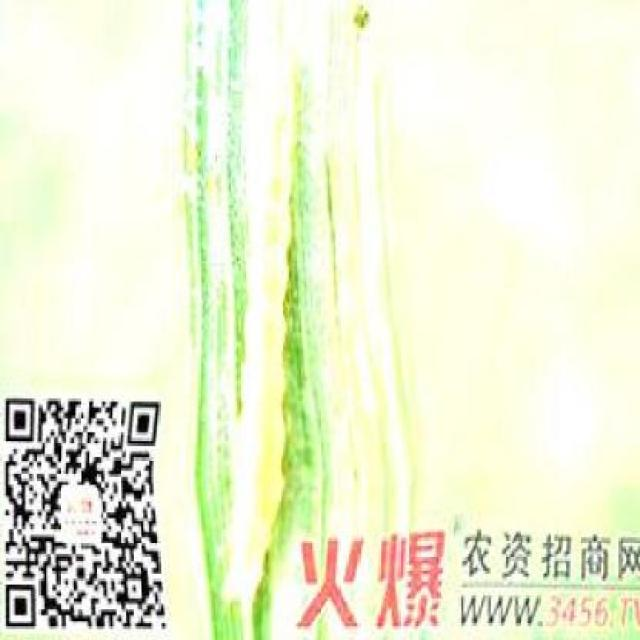leaf-folder: (209, 9, 293, 592)
